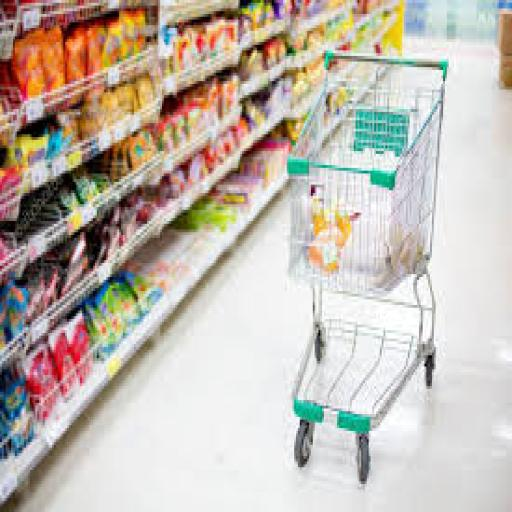shopping_cart: (286, 42, 450, 494)
